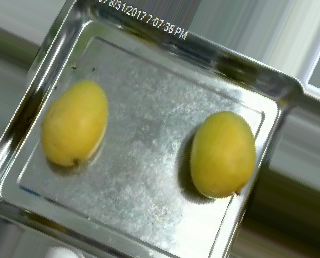Mango: (39, 78, 117, 170), (189, 106, 259, 198)
